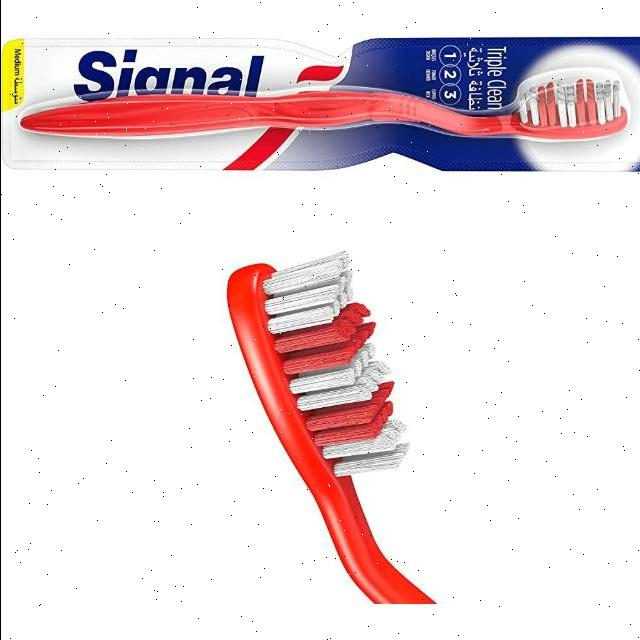toothbrush: (153, 216, 474, 604)
